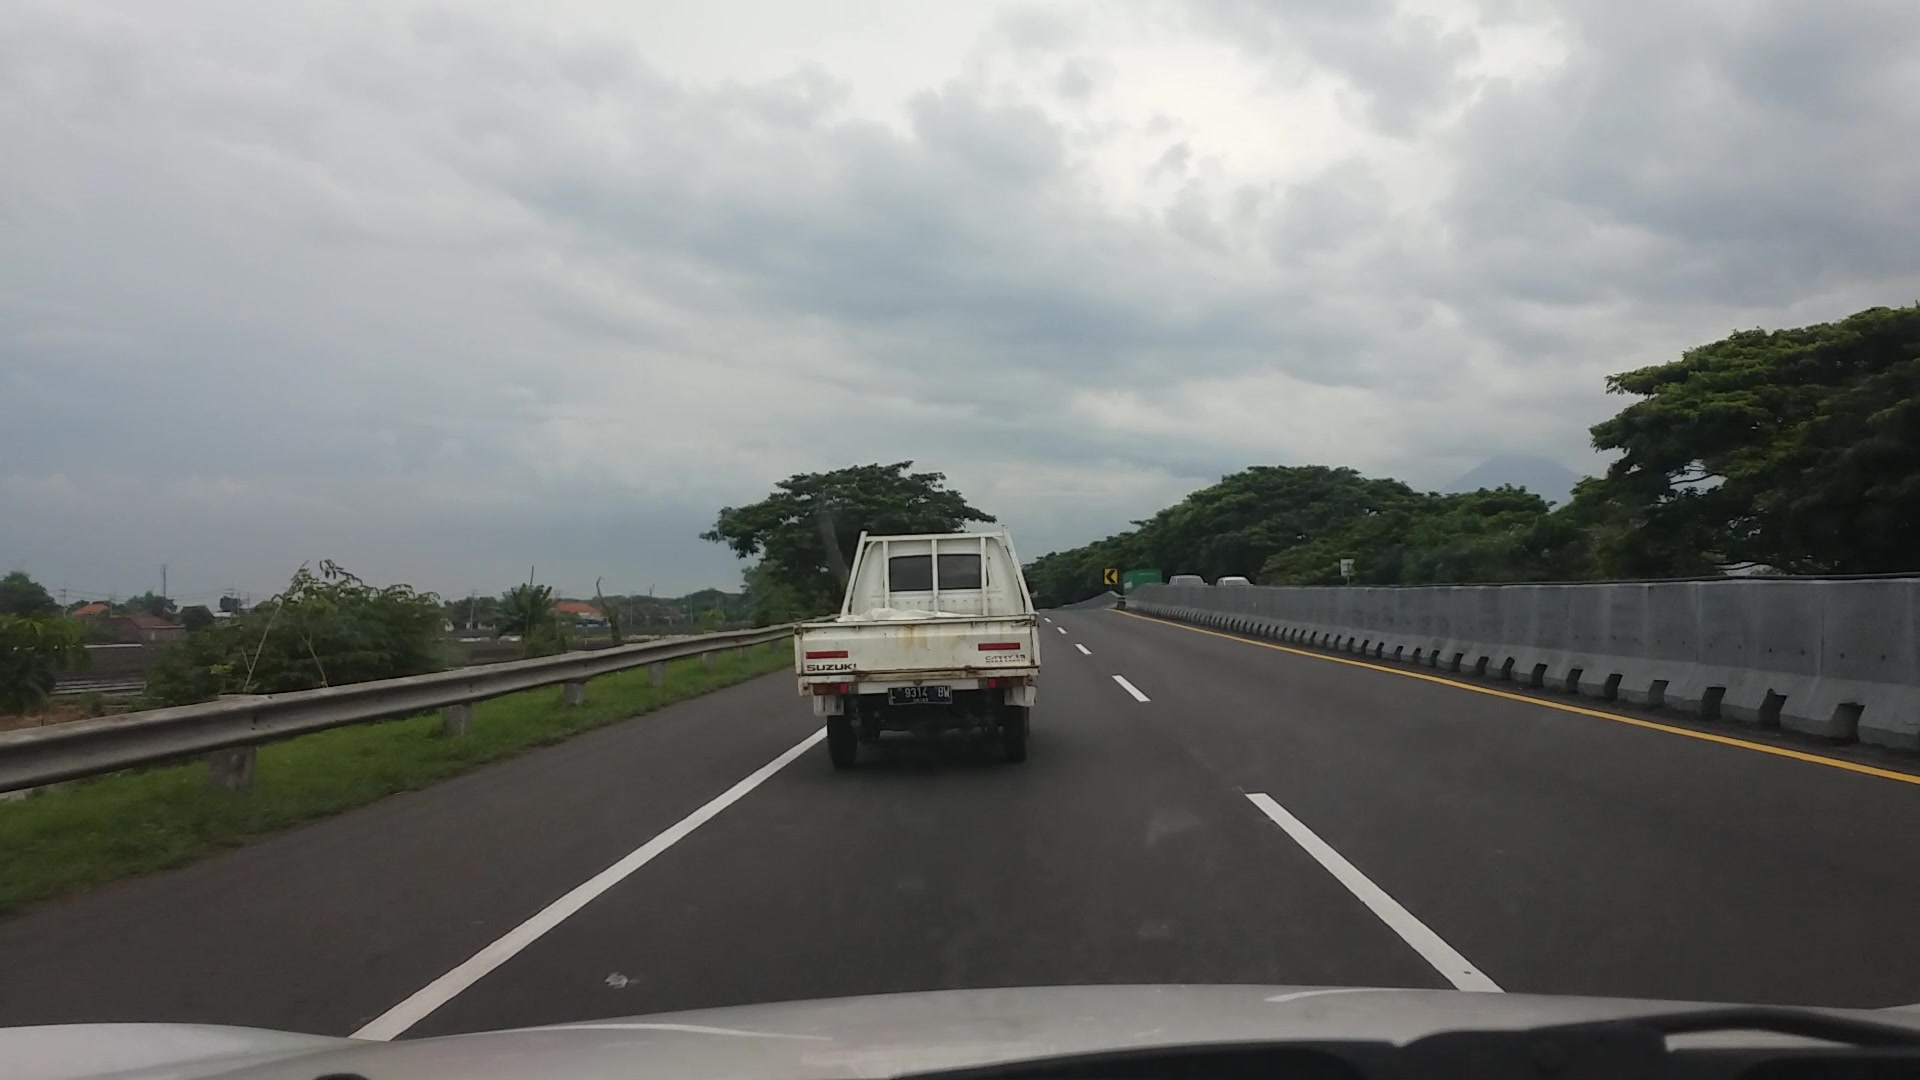plate_positive: (887, 686, 952, 705)
